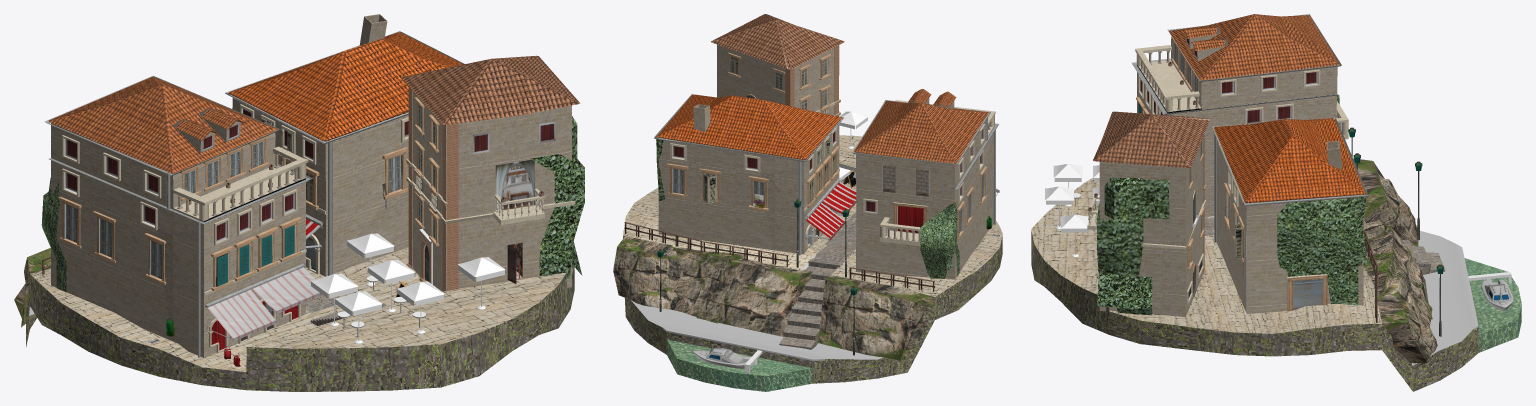
File: dubrovnik.glb
3 views of the same model, side by side, from view 1: azimuth 30°, elevation 25°; view 2: azimuth 150°, elevation 25°; view 3: azimuth 270°, elevation 25° (orthographic). The views are drawn at different scales.
Parts seen in each view (by area): view 1: Object014_04 - Default_0 (×2), Restaurant, Object014_roof_0 (×2), M_PEDESTAL_ROUND_diameter1500cm_36segments_side_0, M_PEDESTAL_ROUND_diameter1500cm_36segments_Material #2_0, Object014_unique_0 (×2), Object014_One D texture_0 (×2), Object014_Material #0_0, Plane001 (×2), Object014_Marble_0, Plane005_11 - Default_0, Object014_13 - Brushed Metal_0 (+6 smaller); view 2: Object014_04 - Default_0 (×2), Object014_roof_0 (×2), Plane001_11 - Default_0, Restaurant, Plane005_11 - Default_0, M_PEDESTAL_ROUND_diameter1500cm_36segments_Material #2_0, M_PEDESTAL_ROUND_diameter1500cm_36segments_side_0, Object014_One D texture_0 (×2), Object014_unique_0 (×2), M_PEDESTAL_ROUND_diameter1500cm_36segments_sea_0, StraightStair001, M_PEDESTAL_ROUND_diameter1500cm_36segments_asphalt_0 (+8 smaller); view 3: Object014_roof_0 (×2), Plane001 (×2), Object014_04 - Default_0 (×2), Restaurant, M_PEDESTAL_ROUND_diameter1500cm_36segments_side_0, M_PEDESTAL_ROUND_diameter1500cm_36segments_Material #2_0, Plane001_11 - Default_0, Object014_One D texture_0 (×2), M_PEDESTAL_ROUND_diameter1500cm_36segments_asphalt_0, Object014_Material #0_0, M_PEDESTAL_ROUND_diameter1500cm_36segments_sea_0, Plane005_11 - Default_0 (+9 smaller).
Boxes of the visible parts, left/top/right/bottom form: Object014_04 - Default_0 (×2): left=51, top=14, right=408, bottom=357; Restaurant: left=402, top=55, right=579, bottom=291; Object014_roof_0 (×2): left=49, top=32, right=463, bottom=173; M_PEDESTAL_ROUND_diameter1500cm_36segments_side_0: left=26, top=267, right=574, bottom=391; M_PEDESTAL_ROUND_diameter1500cm_36segments_Material #2_0: left=30, top=247, right=572, bottom=372; Object014_unique_0 (×2): left=62, top=109, right=408, bottom=341; Object014_One D texture_0 (×2): left=44, top=31, right=464, bottom=357; Object014_Material #0_0: left=55, top=135, right=308, bottom=352; Plane001 (×2): left=41, top=116, right=584, bottom=292; Object014_Marble_0: left=233, top=98, right=408, bottom=274; Plane005_11 - Default_0: left=14, top=248, right=50, bottom=327; Object014_13 - Brushed Metal_0: left=177, top=152, right=299, bottom=216; Object014_04 - Default_0 (×2): left=658, top=98, right=994, bottom=279; Object014_roof_0 (×2): left=657, top=89, right=988, bottom=163; Plane001_11 - Default_0: left=613, top=236, right=812, bottom=336; Restaurant: left=711, top=14, right=844, bottom=116; Plane005_11 - Default_0: left=817, top=276, right=934, bottom=360; M_PEDESTAL_ROUND_diameter1500cm_36segments_Material #2_0: left=623, top=135, right=1002, bottom=296; M_PEDESTAL_ROUND_diameter1500cm_36segments_side_0: left=623, top=235, right=1002, bottom=383; Object014_One D texture_0 (×2): left=654, top=89, right=999, bottom=255; Object014_unique_0 (×2): left=669, top=129, right=999, bottom=240; M_PEDESTAL_ROUND_diameter1500cm_36segments_sea_0: left=667, top=339, right=812, bottom=391; StraightStair001: left=779, top=211, right=856, bottom=349; M_PEDESTAL_ROUND_diameter1500cm_36segments_asphalt_0: left=631, top=163, right=883, bottom=367; Object014_roof_0 (×2): left=1169, top=14, right=1365, bottom=203; Plane001 (×2): left=1097, top=176, right=1367, bottom=315; Object014_04 - Default_0 (×2): left=1137, top=33, right=1363, bottom=313; Restaurant: left=1087, top=111, right=1210, bottom=316; M_PEDESTAL_ROUND_diameter1500cm_36segments_side_0: left=1031, top=230, right=1478, bottom=391; M_PEDESTAL_ROUND_diameter1500cm_36segments_Material #2_0: left=1031, top=178, right=1381, bottom=333; Plane001_11 - Default_0: left=1363, top=220, right=1437, bottom=366; Object014_One D texture_0 (×2): left=1131, top=14, right=1368, bottom=311; M_PEDESTAL_ROUND_diameter1500cm_36segments_asphalt_0: left=1109, top=231, right=1478, bottom=365; Object014_Material #0_0: left=1135, top=45, right=1348, bottom=139; M_PEDESTAL_ROUND_diameter1500cm_36segments_sea_0: left=1464, top=258, right=1521, bottom=352; Plane005_11 - Default_0: left=1353, top=158, right=1418, bottom=246.
Bounding box in the file's own units: 3000 × 1941 × 3375.
Materials: 47 (41 with a texture image).
